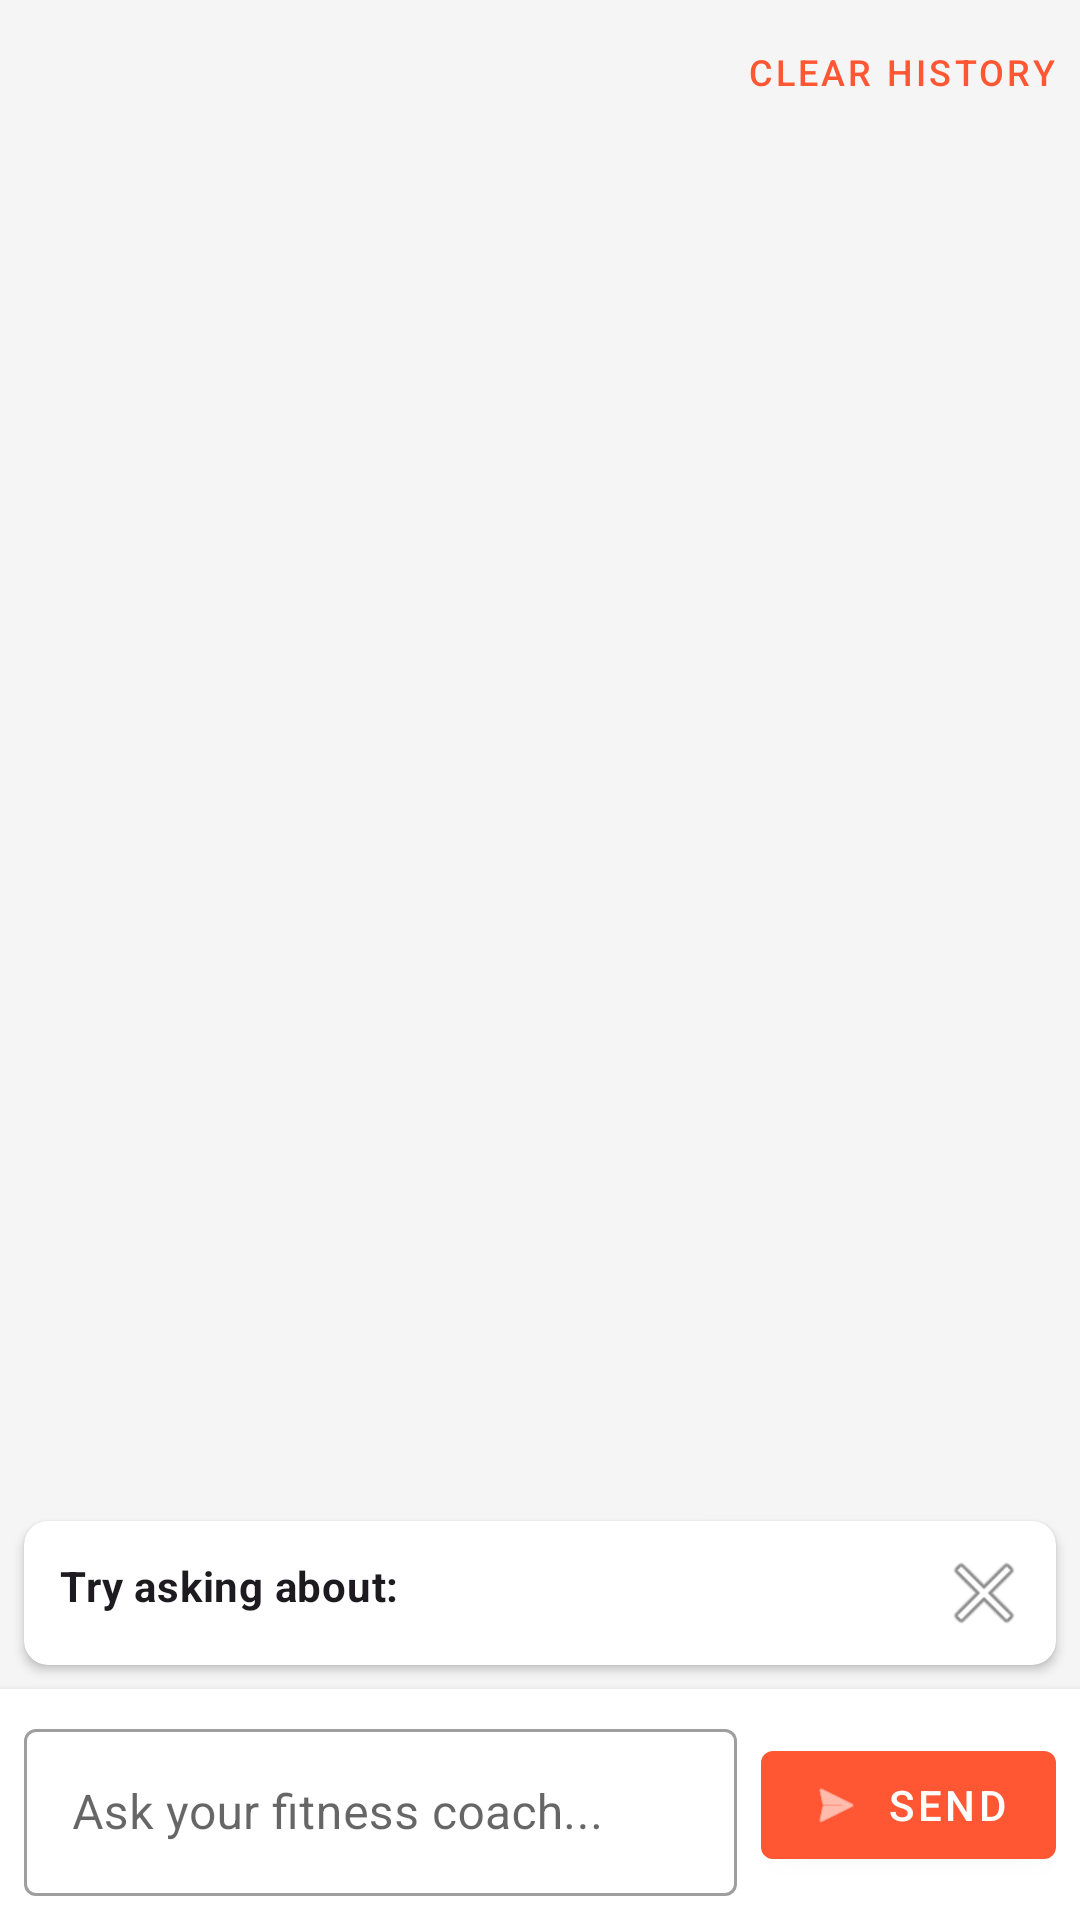

Icons on this 1080*1920 Android screen, each with the point to tap as point (x, y):
Close quick prompts: point (984, 1593)
